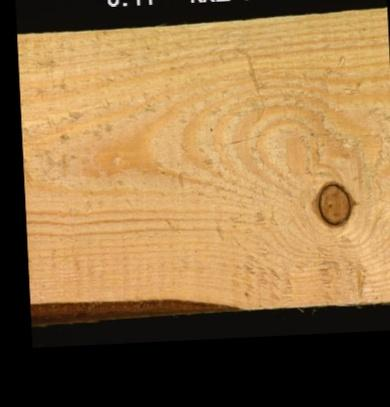dry_knot: (315, 179, 353, 225)
split: (221, 133, 266, 143)
wave: (30, 296, 248, 318)
